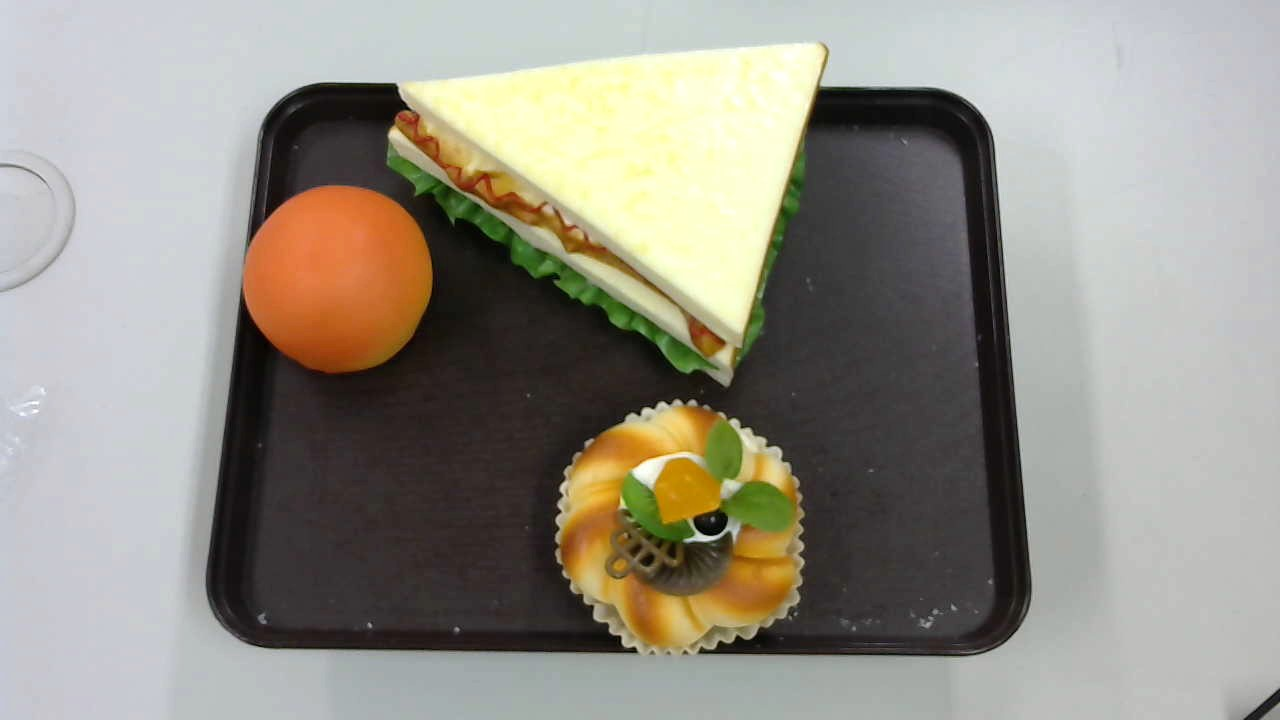bun: (242, 183, 433, 374)
fruit tart: (554, 395, 807, 658)
sandwich: (384, 42, 831, 387)
